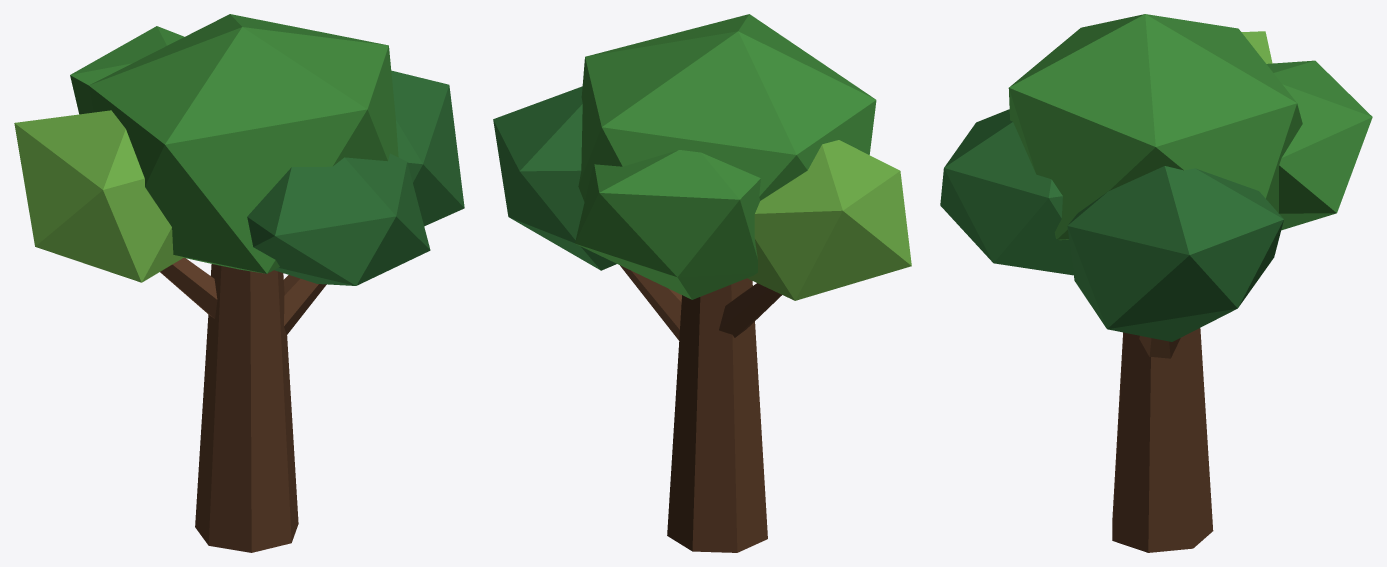
File: OakTree.fbx
3 views of the same model, side by side, from view 1: azimuth 30°, elevation 25°; view 2: azimuth 150°, elevation 25°; view 3: azimuth 270°, elevation 25° (orthographic). The views are drawn at different scales.
Parts seen in each view (by area): view 1: OakTree; view 2: OakTree; view 3: OakTree.
Boxes of the visible parts, x1,y1,x2,y2 form: OakTree: (14,14,464,552); OakTree: (493,14,911,552); OakTree: (940,14,1372,552).
Bounding box in the file's own units: 10.07 × 11.67 × 8.96.
1 material, 1 textured.
